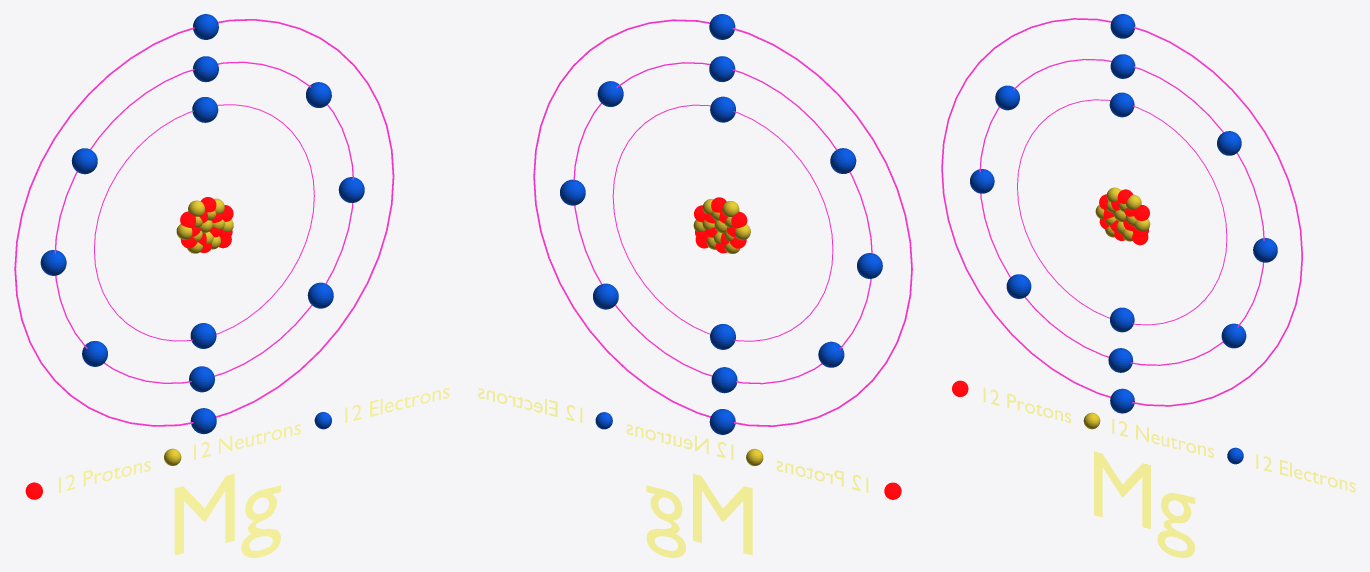
The model's file is magnesium.glb.
The picture shows the model from 3 angles, left to right: view 1: azimuth 30°, elevation 25°; view 2: azimuth 150°, elevation 25°; view 3: azimuth 330°, elevation 25°; orthographic projection. The views are drawn at different scales.
Parts seen in each view (by area): view 1: Text, BézierCircle.002, BézierCircle.001, BézierCircle, Text.003, Text.002, Sphere.001, Sphere.026, Sphere.002, Sphere.030, Sphere.032, Sphere.016 (+7 smaller); view 2: Text, BézierCircle.002, BézierCircle.001, BézierCircle, Text.002, Text.003, Sphere.002, Sphere.020, Sphere.032, Sphere.009, Sphere.026, Sphere.015 (+7 smaller); view 3: Text, BézierCircle.002, BézierCircle.001, BézierCircle, Text.003, Text.002, Sphere.020, Sphere.001, Sphere.015, Sphere.026, Sphere.033.
Part boxes in pixels (x1,y1,x2,y2): Text: [174, 473, 280, 557]; BézierCircle.002: [14, 19, 394, 426]; BézierCircle.001: [54, 61, 353, 383]; BézierCircle: [94, 104, 314, 341]; Text.003: [345, 388, 449, 422]; Text.002: [194, 424, 300, 459]; Sphere.001: [190, 323, 216, 348]; Sphere.026: [71, 148, 97, 174]; Sphere.002: [192, 97, 218, 122]; Sphere.030: [307, 282, 333, 308]; Sphere.032: [189, 366, 214, 392]; Sphere.016: [40, 250, 66, 275]; Text: [646, 474, 752, 557]; BézierCircle.002: [533, 19, 912, 426]; BézierCircle.001: [573, 62, 872, 384]; BézierCircle: [612, 104, 833, 341]; Text.002: [626, 424, 733, 459]; Text.003: [478, 388, 582, 422]; Sphere.002: [710, 96, 735, 122]; Sphere.020: [818, 341, 844, 367]; Sphere.032: [711, 367, 737, 393]; Sphere.009: [560, 179, 585, 205]; Sphere.026: [830, 148, 856, 173]; Sphere.015: [709, 56, 735, 81]; Text: [1094, 451, 1195, 557]; BézierCircle.002: [941, 18, 1302, 406]; BézierCircle.001: [979, 59, 1264, 365]; BézierCircle: [1017, 99, 1227, 325]; Text.003: [1256, 454, 1355, 492]; Text.002: [1112, 419, 1214, 457]; Sphere.020: [1006, 274, 1031, 298]; Sphere.001: [1110, 307, 1134, 332]; Sphere.015: [1110, 54, 1135, 78]; Sphere.026: [995, 85, 1019, 110]; Sphere.033: [1110, 14, 1135, 38].
Size of the model in its own units: 4.62 by 5.64 by 0.2925.
